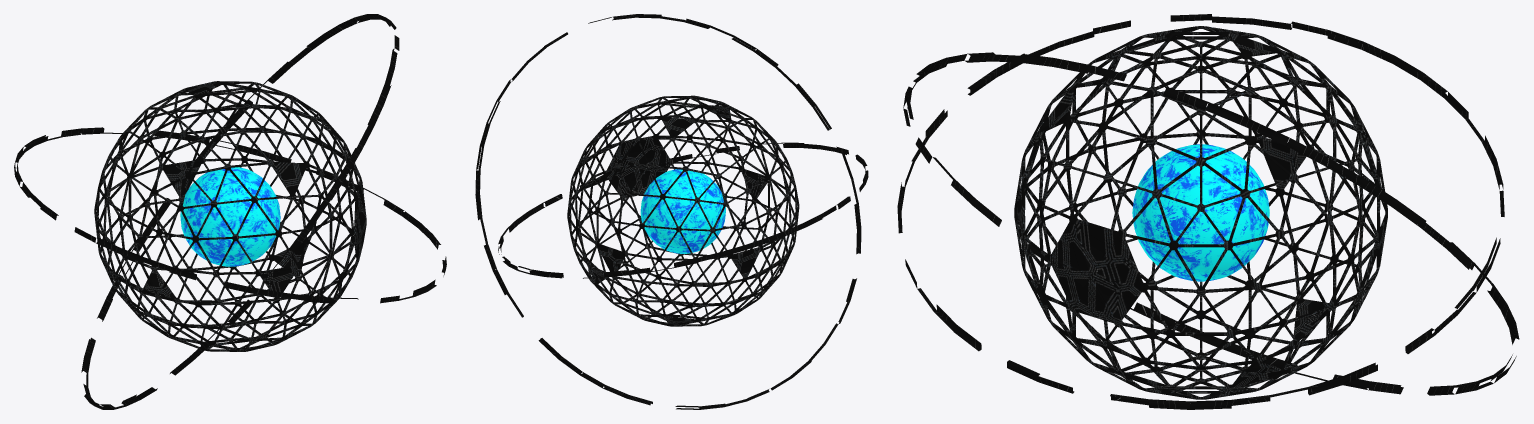
The model's file is dyson_sphere.glb.
3 views of the same model, side by side, from view 1: azimuth 30°, elevation 25°; view 2: azimuth 150°, elevation 25°; view 3: azimuth 270°, elevation 25° (orthographic). The views are drawn at different scales.
Visible parts, largest first — view 1: Icosphere.001, Sphere, BezierCircle.001, BezierCircle; view 2: Icosphere.001, Sphere, BezierCircle.001, BezierCircle; view 3: Icosphere.001, Sphere, BezierCircle.001, BezierCircle.
Part boxes in pixels (x1,y1,x2,y2): Icosphere.001: (94, 81, 366, 351); Sphere: (180, 167, 280, 266); BezierCircle.001: (81, 14, 399, 409); BezierCircle: (14, 127, 446, 303); Icosphere.001: (567, 95, 799, 326); Sphere: (640, 169, 725, 253); BezierCircle.001: (475, 14, 861, 409); BezierCircle: (498, 142, 868, 278); Icosphere.001: (1014, 26, 1387, 399); Sphere: (1132, 144, 1269, 281); BezierCircle.001: (903, 52, 1519, 395); BezierCircle: (897, 14, 1504, 409).
Size of the model in its own units: 2.98 by 2.6 by 3.15.
Materials: 4 (4 with a texture image).
